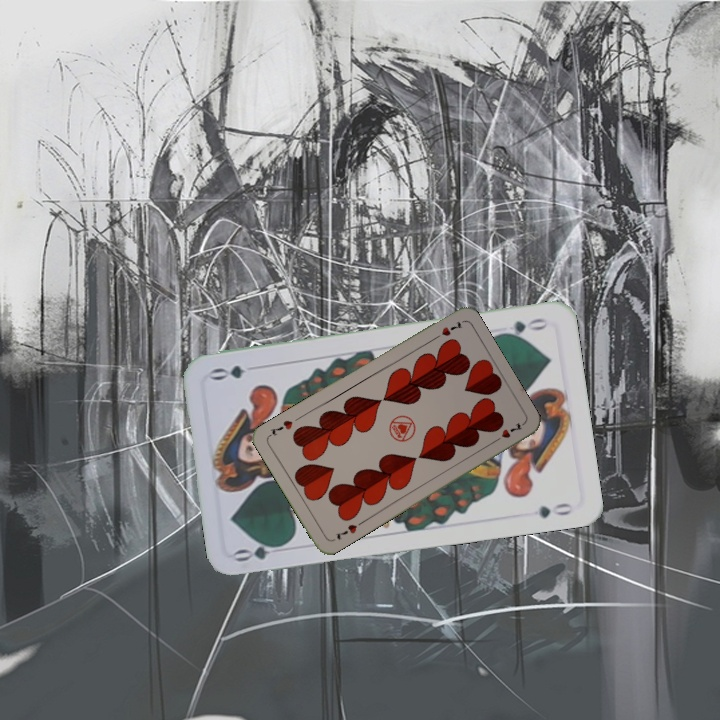GO: (231, 537, 290, 565), (493, 314, 551, 340)
H7: (428, 317, 465, 343), (331, 520, 360, 543)
